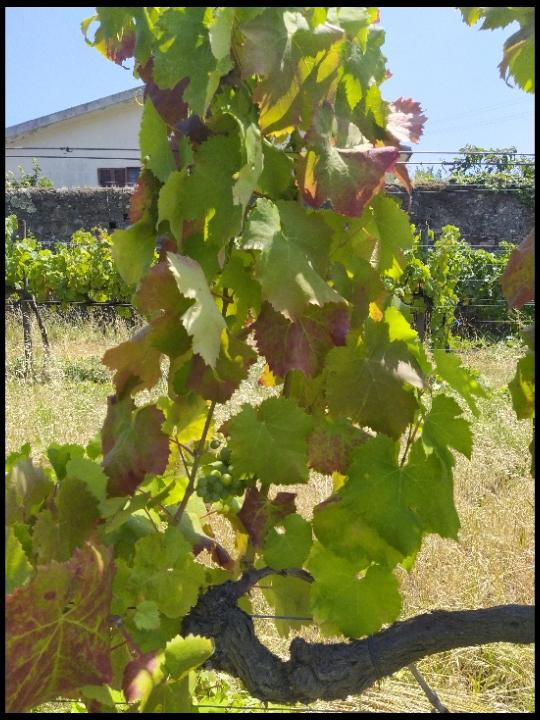grape: (193, 435, 247, 509)
